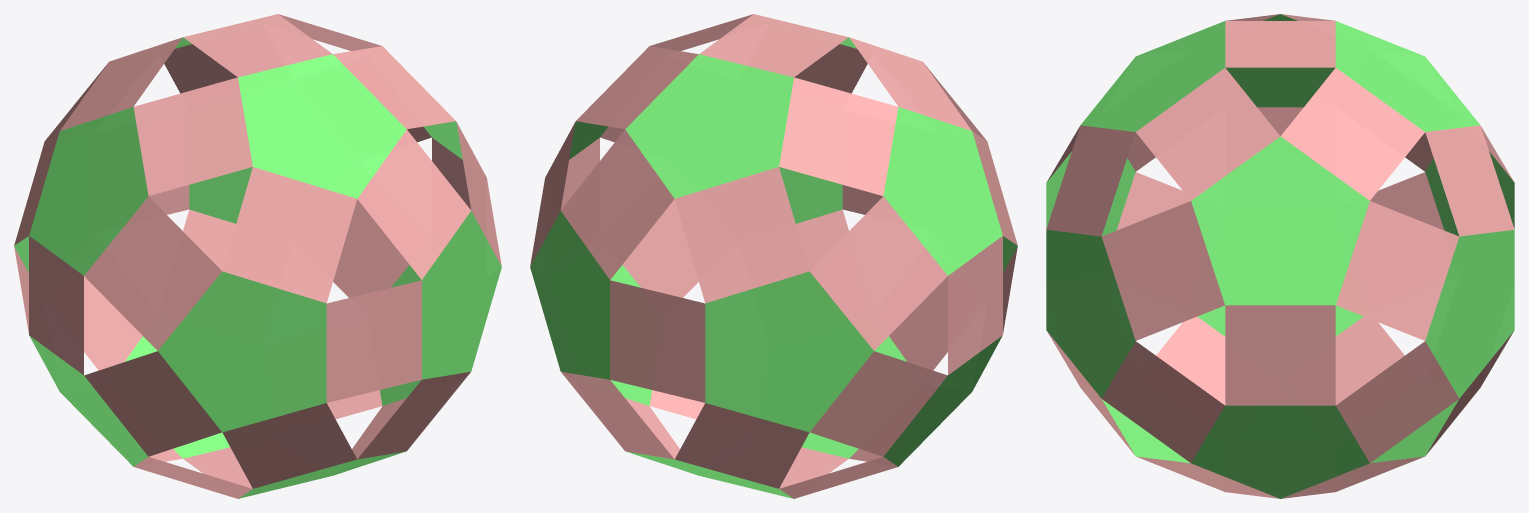
The model's file is RhombicosidodecahedronA1.obj.
3 views of the same model, side by side, from view 1: azimuth 30°, elevation 25°; view 2: azimuth 150°, elevation 25°; view 3: azimuth 270°, elevation 25° (orthographic).
Bounding box in the file's own units: 4.24 × 4.24 × 4.24.
